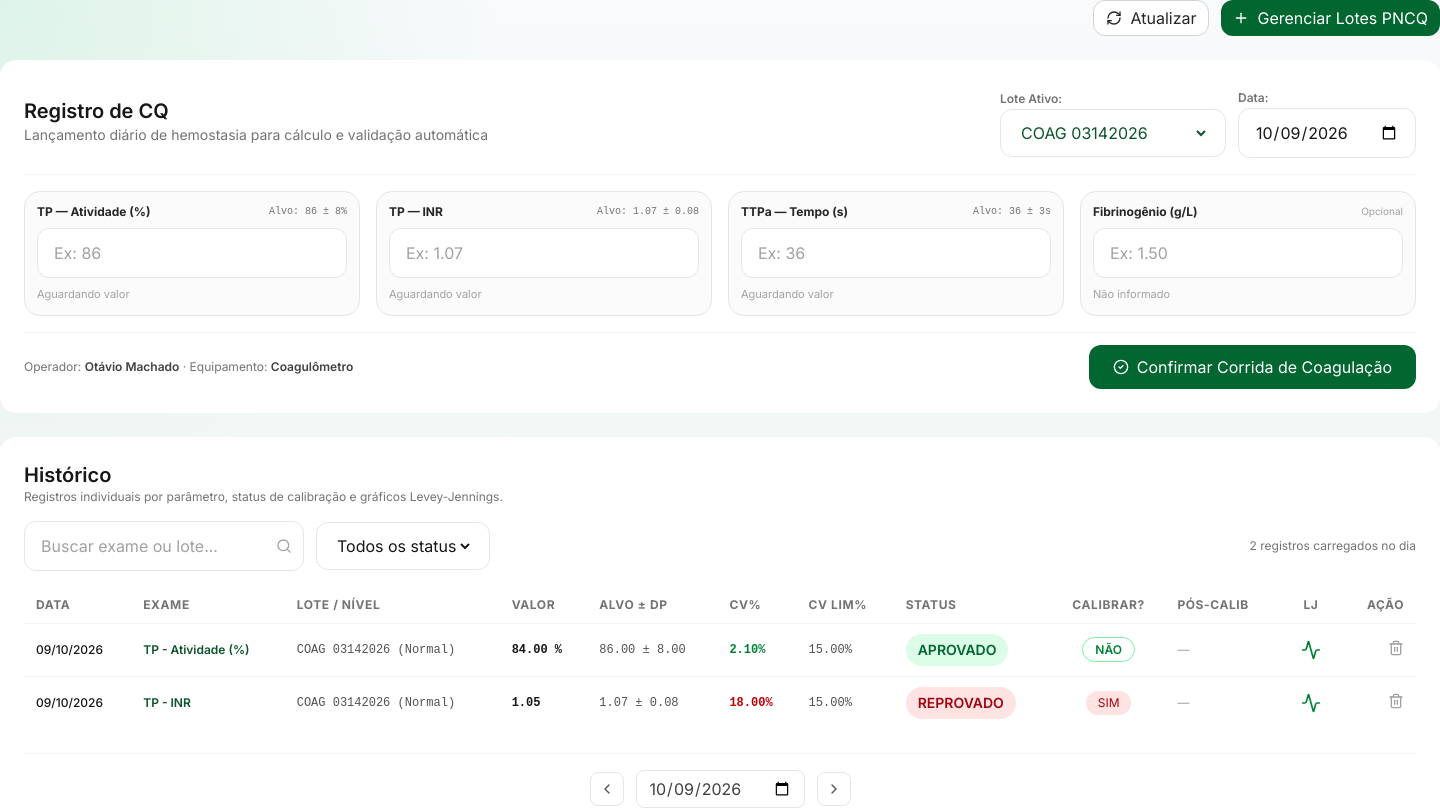
it: CoagulacaoArea › abre o modal de gestão de lotes PNCQ ao clicar no botão
The image size is (1440, 810).
Click the button "Gerenciar Lotes PNCQ": click(1331, 18) top-left (1222, 0), bottom-right (1439, 36)
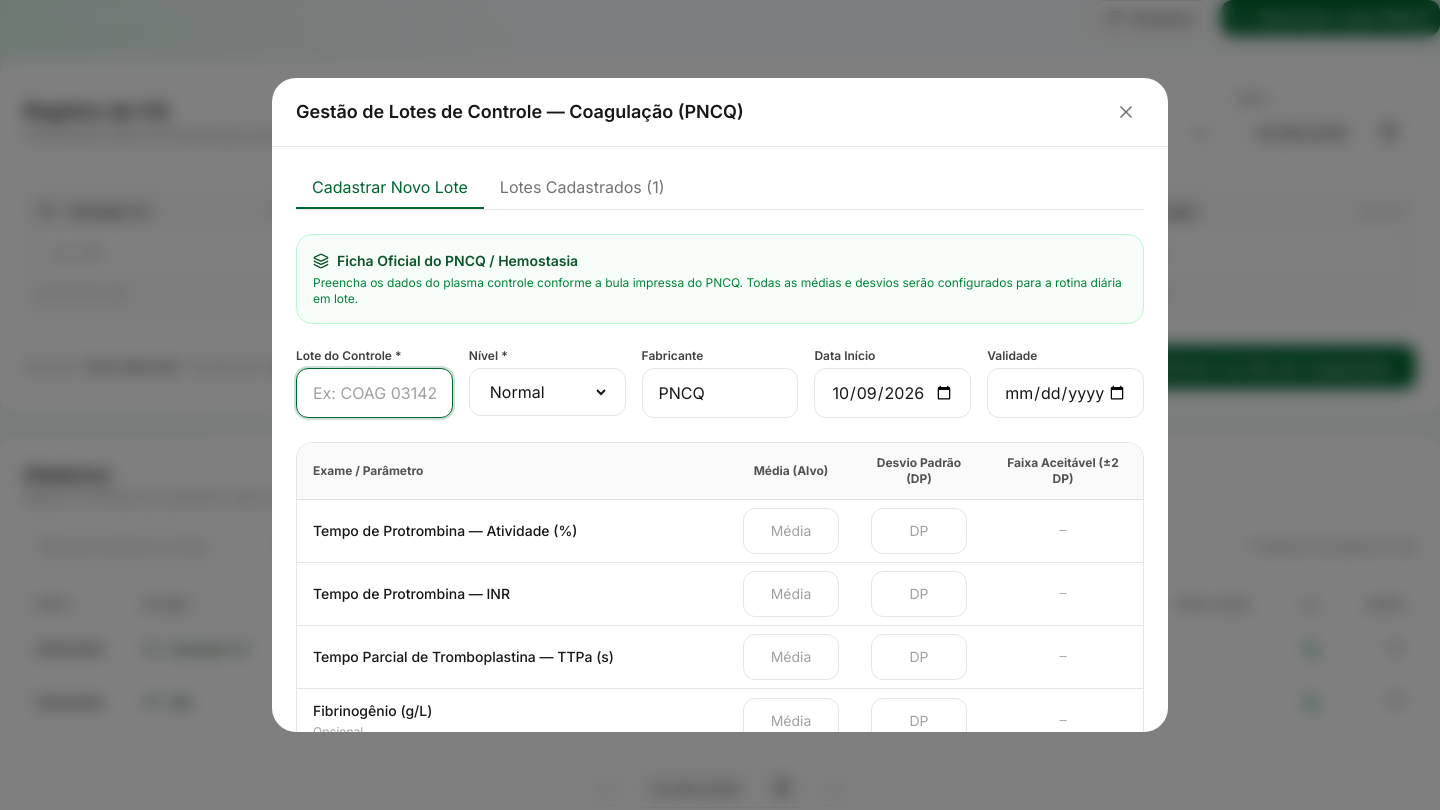
Now the heading "Gestão de Lotes de Controle — Coagulação (PNCQ)" is shown, box top-left (296, 98), bottom-right (744, 126)
